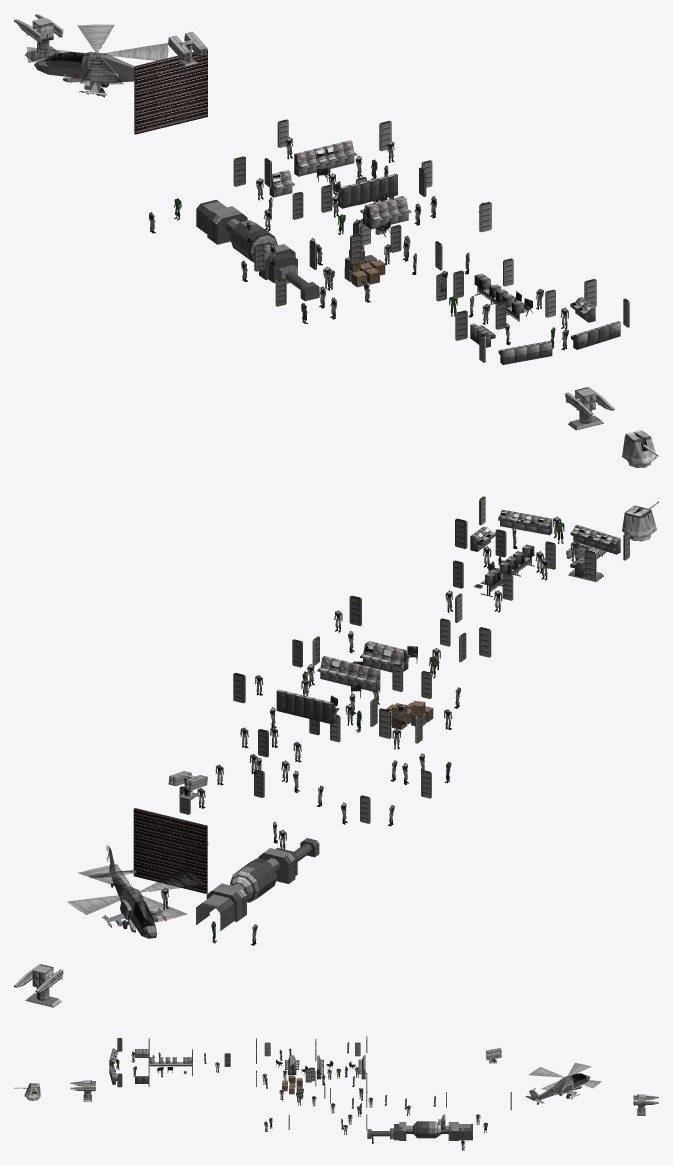
3 views of the same model, one above another, from view 1: azimuth 30°, elevation 25°; view 2: azimuth 150°, elevation 25°; view 3: azimuth 270°, elevation 25° (orthographic). The views are drawn at different scales.
Visible parts, largest first — view 1: primary, secondary; view 2: primary, secondary; view 3: primary, secondary.
Boxes of the visible parts, box(x1,y1,x2,y2) form: primary: box(14, 14, 658, 467); secondary: box(27, 24, 658, 456); primary: box(14, 496, 656, 1007); secondary: box(67, 501, 658, 928); primary: box(24, 1036, 658, 1150); secondary: box(14, 1063, 601, 1104).
Size of the model in its own units: 590 by 599 by 4052.
531 materials, 531 textured.
